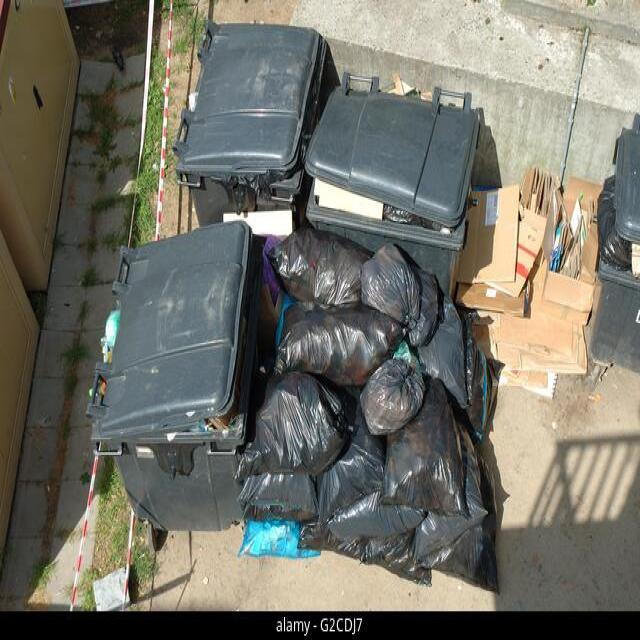cardboard: (491, 171, 590, 353)
trash: (257, 238, 493, 586)
